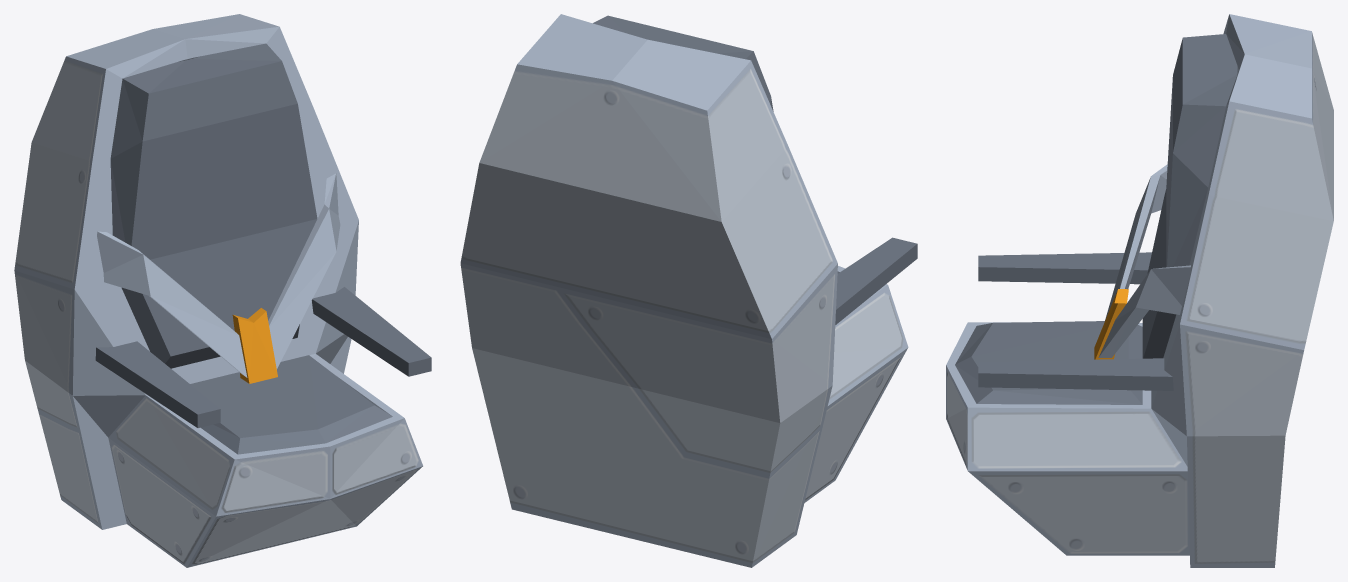
The model's file is Envi15.dae.
The picture shows the model from 3 angles, left to right: view 1: azimuth 30°, elevation 25°; view 2: azimuth 150°, elevation 25°; view 3: azimuth 270°, elevation 25°; orthographic projection. The views are drawn at different scales.
Parts seen in each view (by area): view 1: Cube.186; view 2: Cube.186; view 3: Cube.186.
Part boxes in pixels (box(x1,y1,x2,y2)): Cube.186: box(14, 14, 431, 567); Cube.186: box(460, 14, 917, 567); Cube.186: box(946, 14, 1333, 567).
Bounding box in the file's own units: 1.2 × 1.38 × 1.8.
